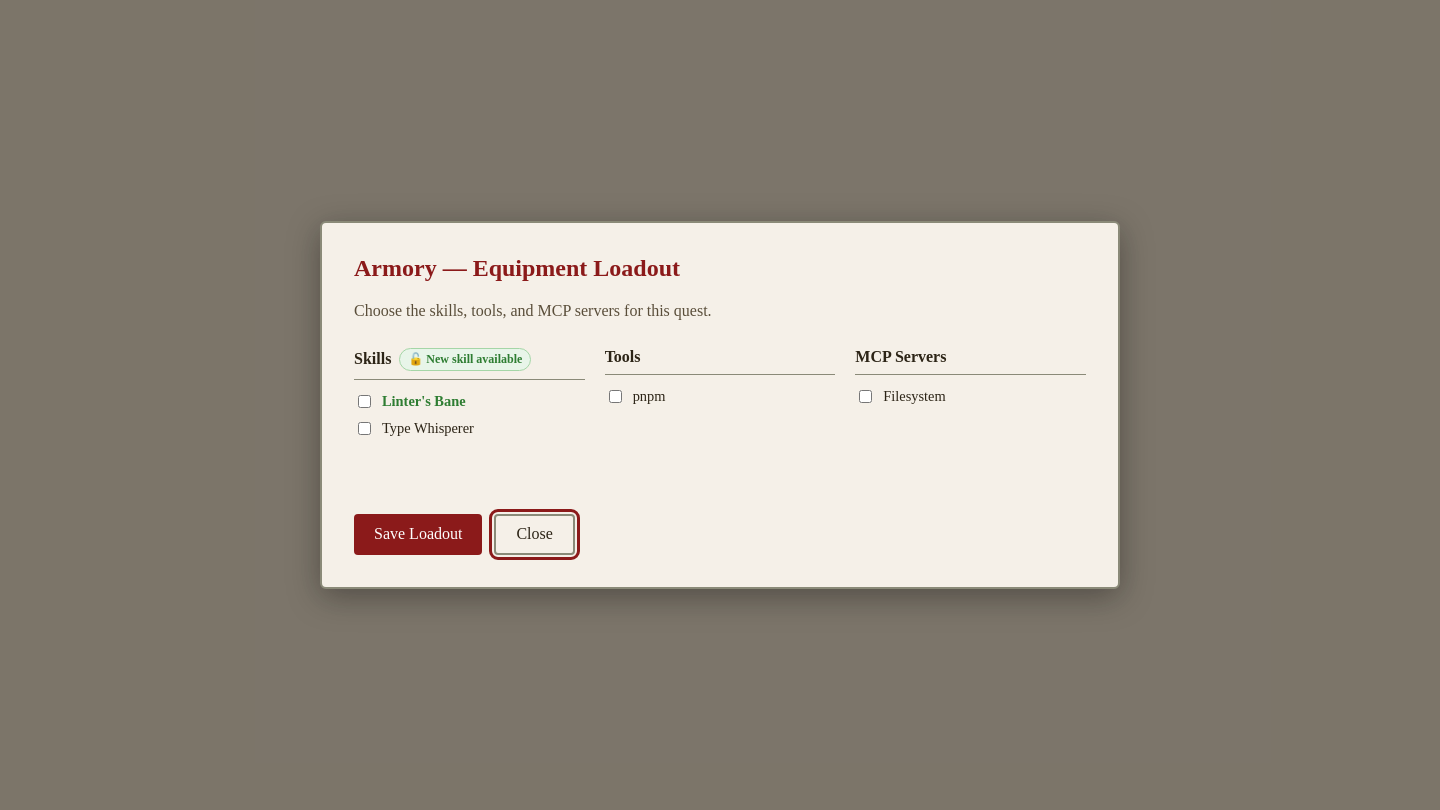
Test case: LoadoutPanel › shows persistent error when save mutation fails
The image size is (1440, 810).
Click the button "Save Loadout" at (418, 534), box [354,514,482,555]
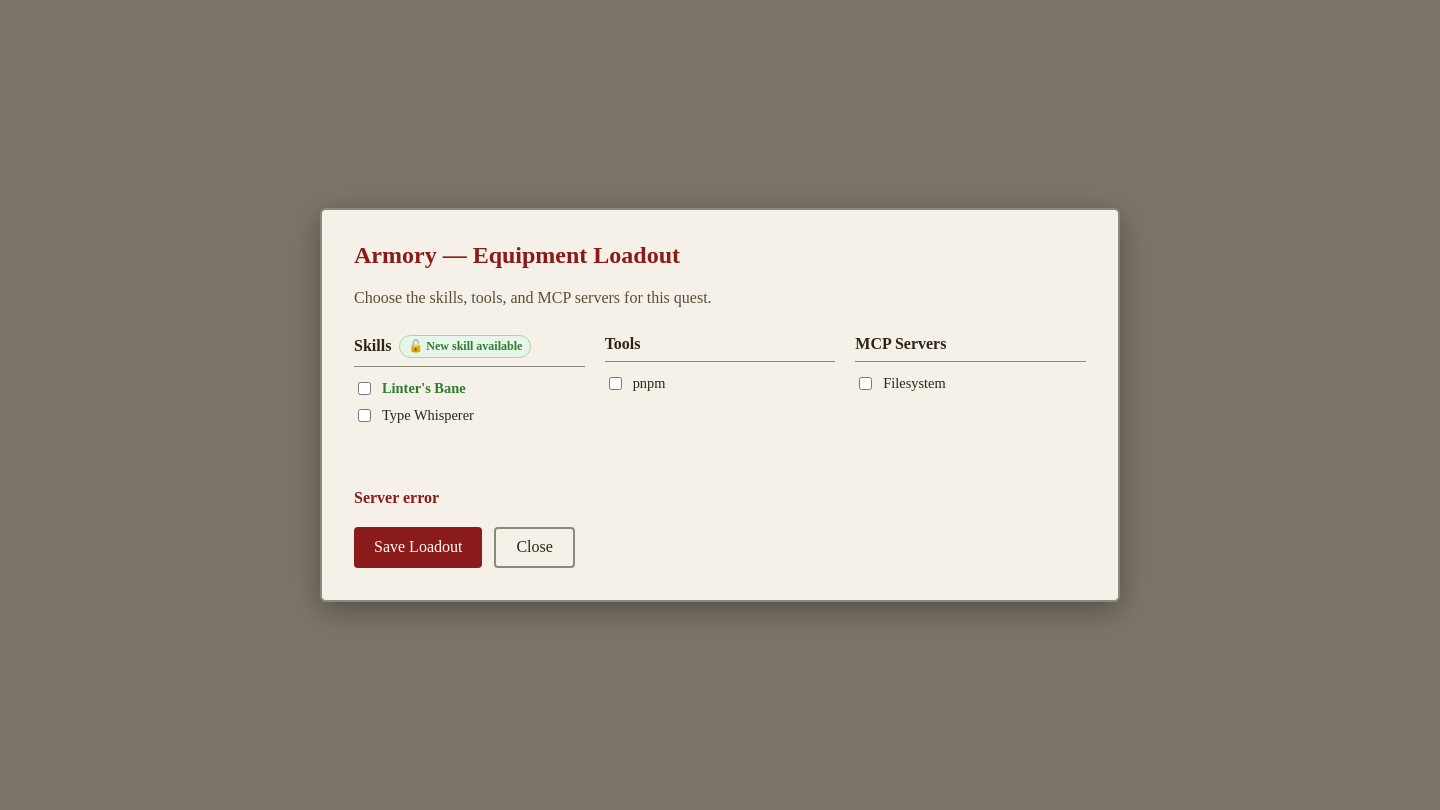
Now the text "Server error" is shown, box [354,489,439,506]
